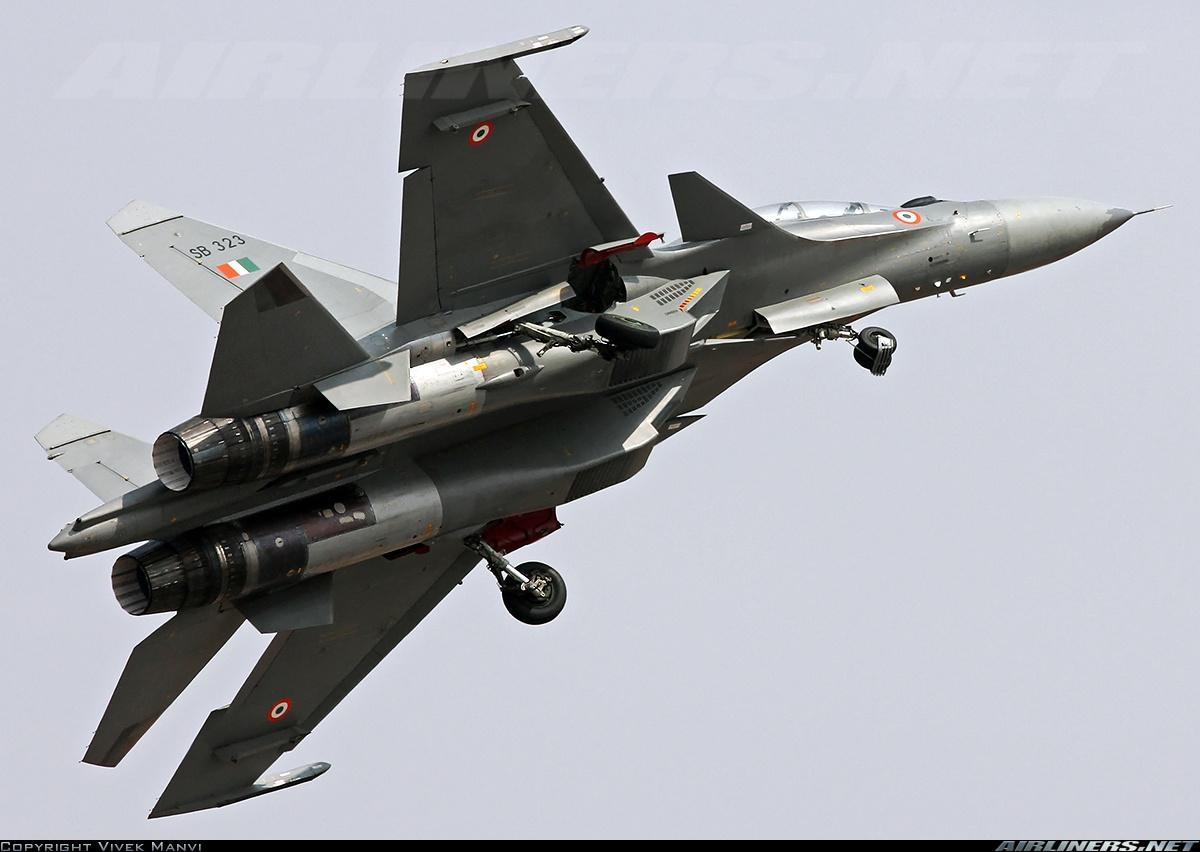aircraft: (40, 43, 1158, 815)
